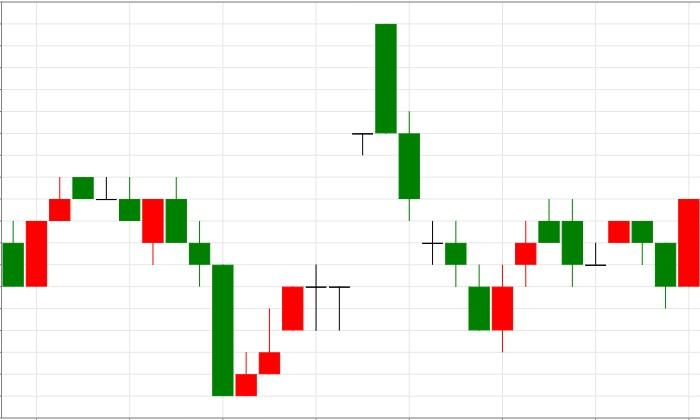bullish_engulfing_rise: (375, 24, 514, 352)
